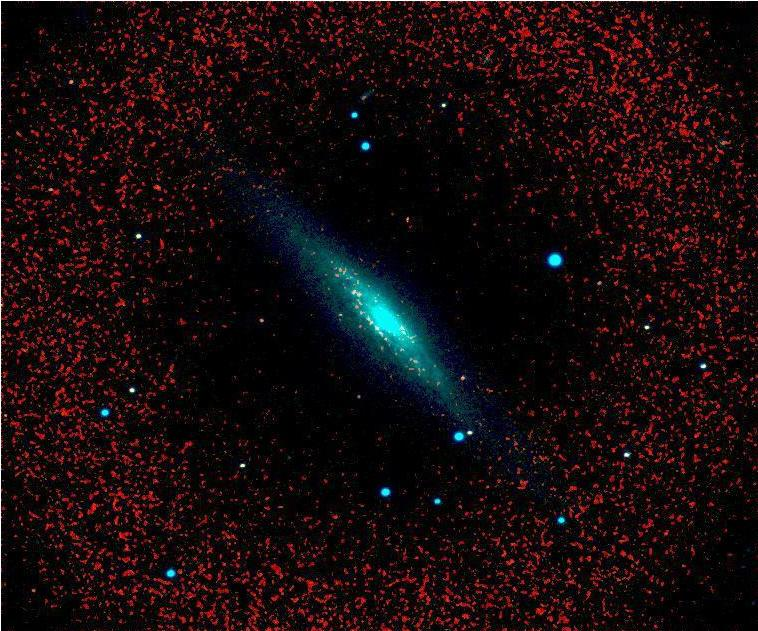star: (140, 172, 170, 202)
